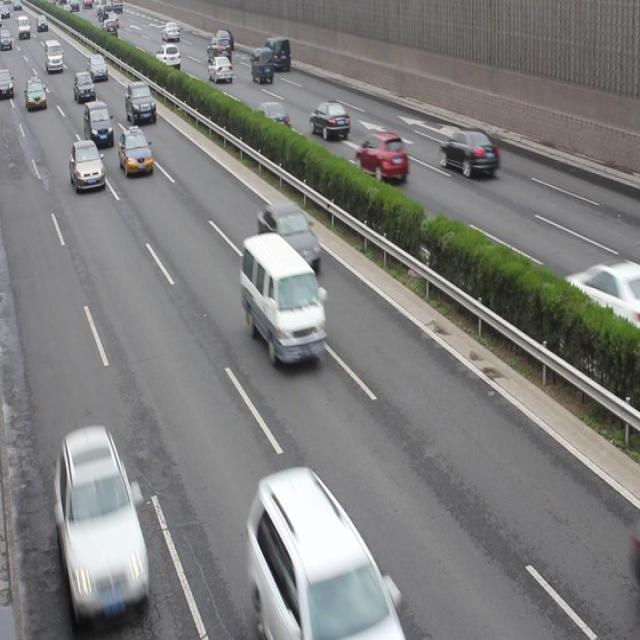car: (248, 471, 401, 640), (58, 431, 148, 607), (561, 260, 640, 329), (257, 203, 320, 270), (439, 129, 499, 178), (355, 130, 408, 182), (71, 140, 105, 194), (119, 128, 154, 175), (309, 101, 350, 140), (84, 101, 114, 147), (125, 82, 156, 124), (254, 102, 291, 135), (250, 48, 274, 84), (26, 76, 48, 110), (207, 34, 231, 63), (73, 71, 94, 103), (156, 44, 180, 70), (208, 56, 232, 82), (87, 54, 108, 80), (212, 29, 234, 52), (1, 68, 14, 100), (162, 21, 180, 43)
truck: (240, 235, 326, 365), (262, 37, 291, 71), (46, 39, 64, 72)
